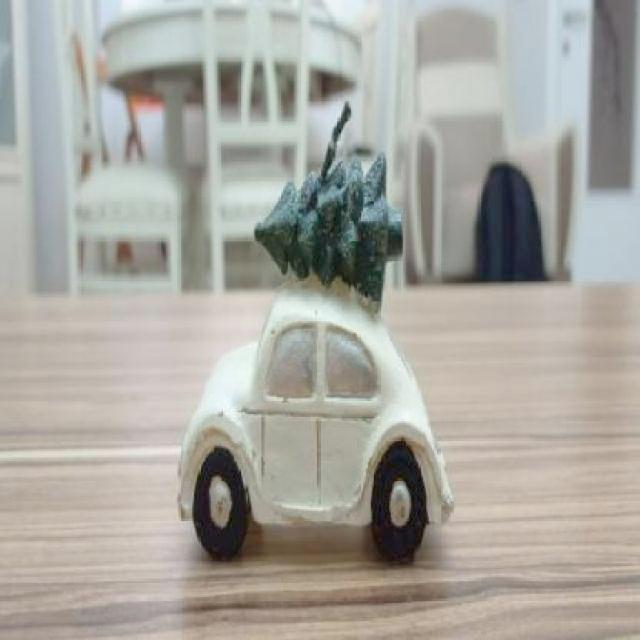car: (157, 288, 450, 554)
